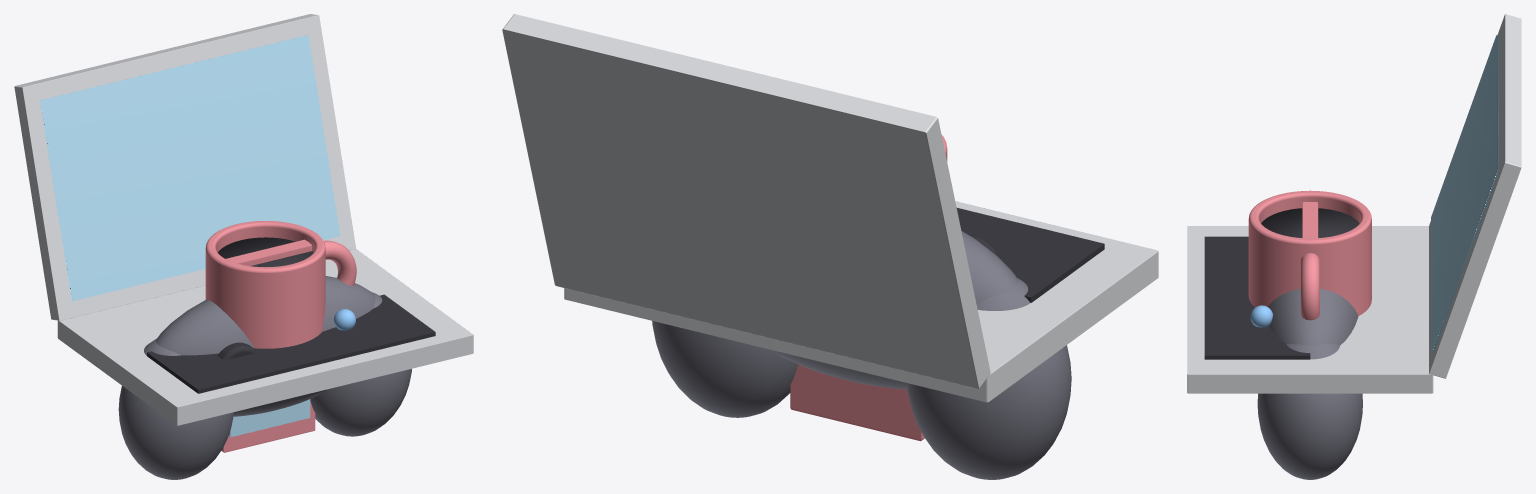
File: props.glb
The picture shows the model from 3 angles, left to right: view 1: azimuth 30°, elevation 25°; view 2: azimuth 150°, elevation 25°; view 3: azimuth 270°, elevation 25°; orthographic projection. The views are drawn at different scales.
Parts seen in each view (by area): view 1: Cube.003, Cube, Cube.002, Cylinder.001, Cube.001, Sphere.001, Sphere, Sphere.002, Cube.004, Cube.005, Cylinder.002, Torus; view 2: Cube.002, Cube, Sphere.001, Sphere.002, Cube.001, Cube.004, Sphere; view 3: Cube, Cube.003, Cylinder.001, Cube.002, Sphere.002, Cube.001, Sphere, Cylinder.002, Torus, Cube.004, Sphere.004.
Boxes of the visible parts, x1,y1,x2,y2 form: Cube.003: (40,35,340,300); Cube: (57,249,473,425); Cube.002: (14,14,355,320); Cylinder.001: (205,221,325,348); Cube.001: (147,294,435,393); Sphere.001: (118,339,233,479); Sphere: (156,276,375,416); Sphere.002: (310,292,411,436); Cube.004: (221,239,315,452); Cube.005: (229,399,310,437); Cylinder.002: (217,237,313,267); Torus: (324,240,356,285); Cube.002: (502,14,990,388); Cube: (564,201,1158,402); Sphere.001: (907,278,1071,479); Sphere.002: (652,321,798,417); Cube.001: (956,208,1104,302); Cube.004: (790,364,924,441); Sphere: (773,231,1018,389); Cube: (1187,226,1433,393); Cube.003: (1431,35,1499,351); Cylinder.001: (1248,190,1371,315); Cube.002: (1429,14,1521,378); Sphere.002: (1257,343,1362,479); Cube.001: (1204,236,1310,359); Sphere: (1268,288,1358,345); Cylinder.002: (1261,208,1359,237); Torus: (1300,253,1319,320); Cube.004: (1302,202,1318,238); Sphere.004: (1250,305,1272,327).
Bounding box in the file's own units: 0.4 × 0.4303 × 0.3805.
